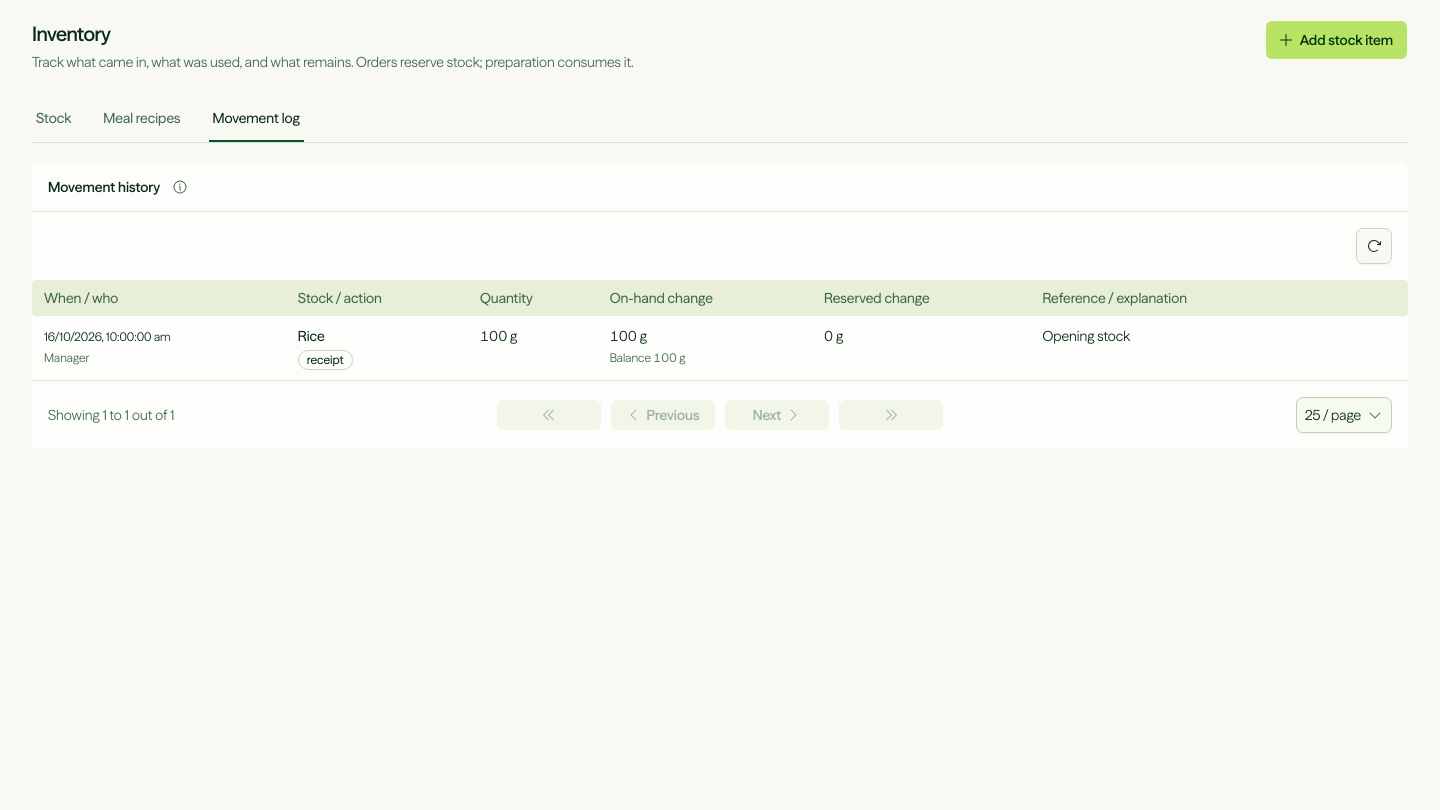
inventory workspace › keeps movement-history guidance in an info popover
Expected: the heading "Movement history" is shown, [48,177,160,197]
Expected: the text "Append-only history" is not shown
Click the button named "About movement history" at (180, 187), box [168,175,192,199]
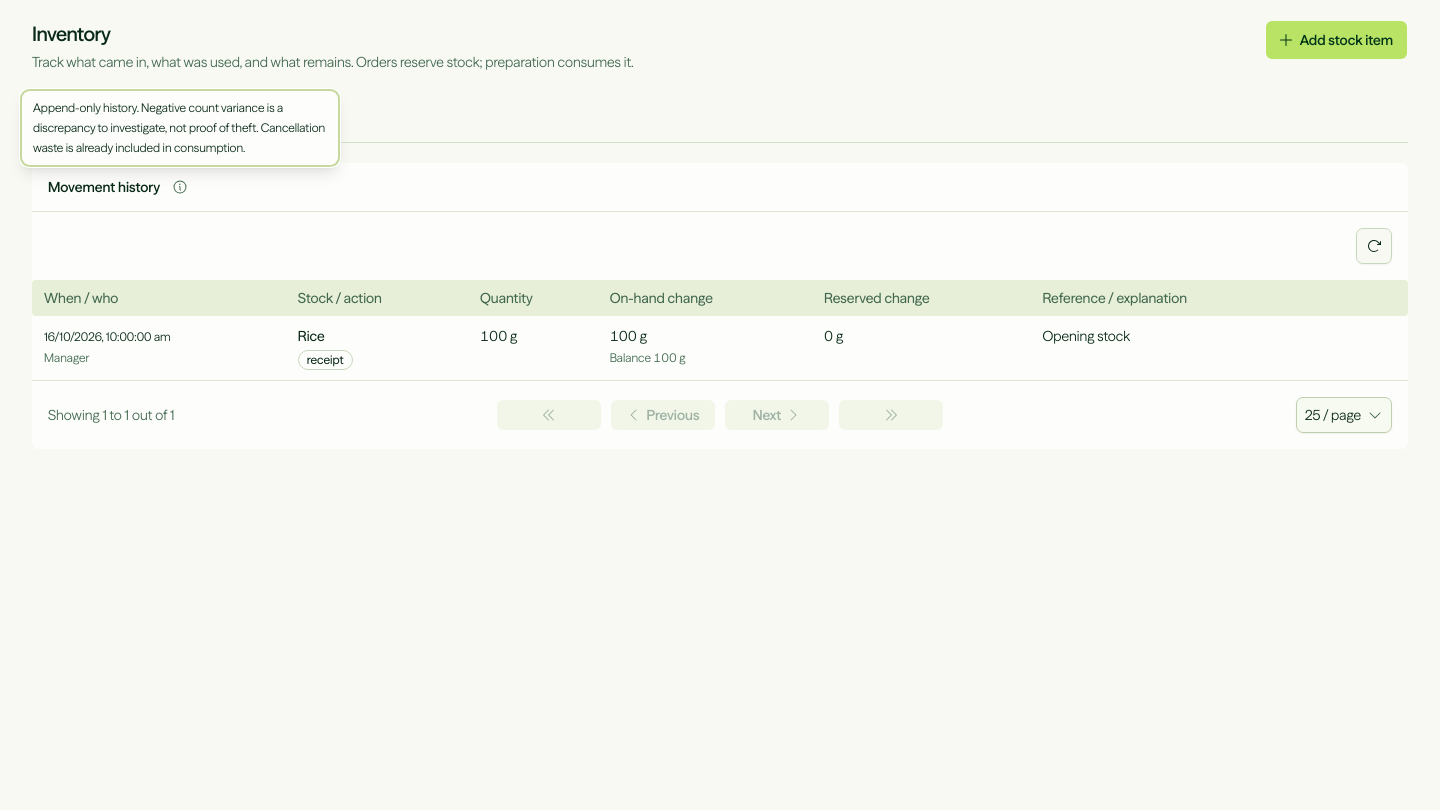
Now the text "Negative count variance is a discrepancy" is shown, box [33,100,325,155]
